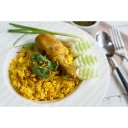briyani: (16, 33, 75, 101)
